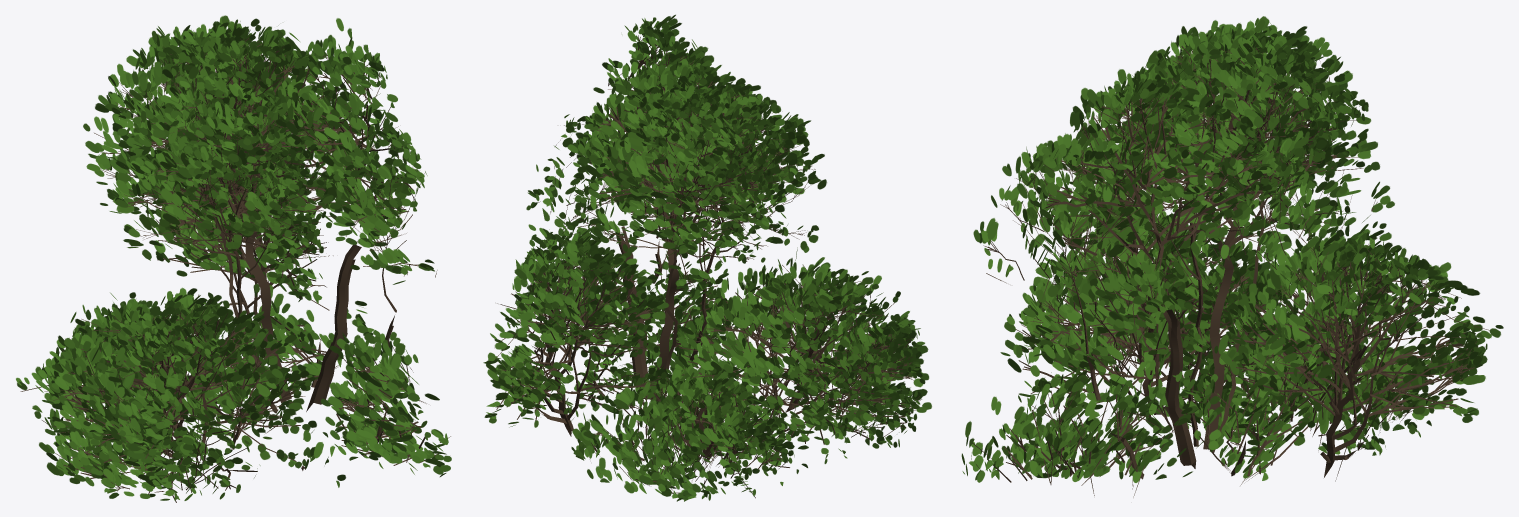
3 views of the same model, side by side, from view 1: azimuth 30°, elevation 25°; view 2: azimuth 150°, elevation 25°; view 3: azimuth 270°, elevation 25° (orthographic). The views are drawn at different scales.
Parts seen in each view (by area): view 1: oak 01.001_trunk_Mat.001_0.355; view 2: oak 01.001_trunk_Mat.001_0.355; view 3: oak 01.001_trunk_Mat.001_0.355.
Part boxes in pixels (<box>): oak 01.001_trunk_Mat.001_0.355: <box>16,15,451,502</box>; oak 01.001_trunk_Mat.001_0.355: <box>483,14,931,501</box>; oak 01.001_trunk_Mat.001_0.355: <box>961,16,1503,497</box>.
Bounding box in the file's own units: 4.18 × 4.79 × 5.42.
Materials: 2 (1 with a texture image).
